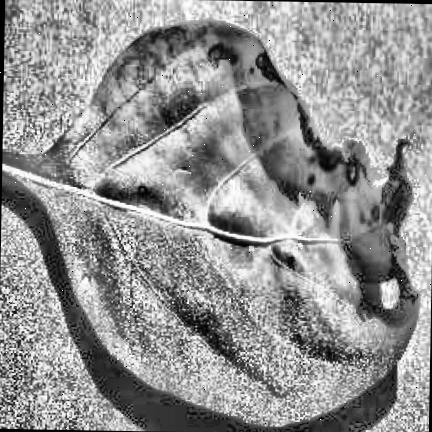leaf: (2, 21, 419, 428)
